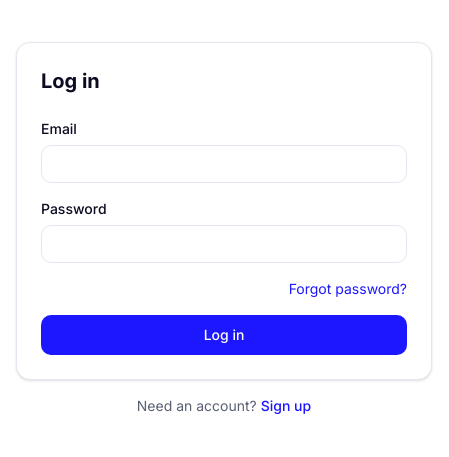
LoginPage › surfaces a server error message
Type "a@b.io" into the field labelled "Email" at x=224, y=164, box [41, 145, 407, 183]
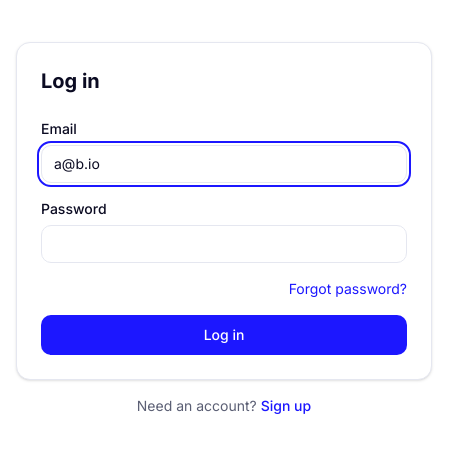
Type "wrong" into the password field labelled "Password" at x=224, y=244, box [41, 225, 407, 263]
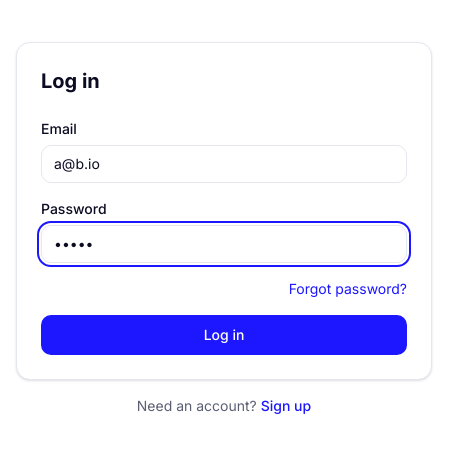
Click the button "Log in" at x=224, y=335, box [41, 315, 407, 355]
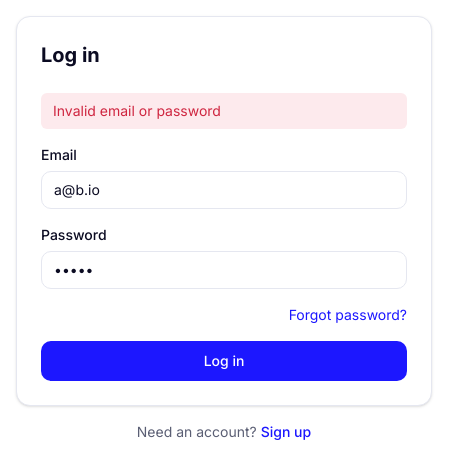
Now the text "Invalid email or password" is shown, box [41, 93, 407, 129]
